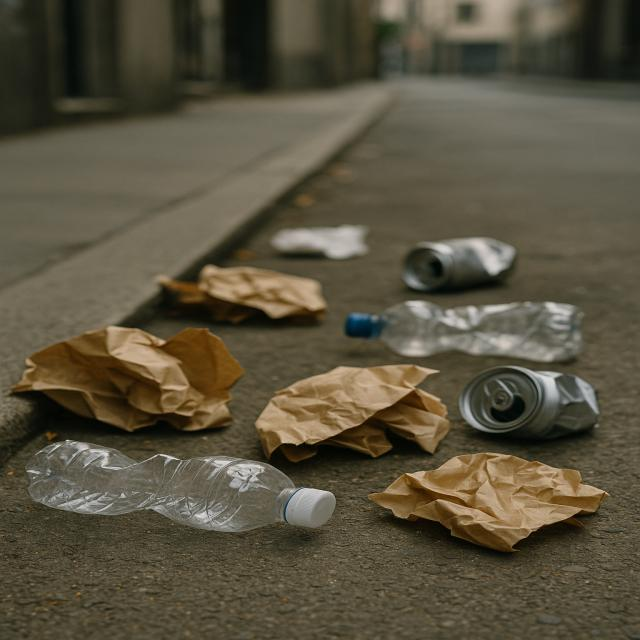aluminum: (460, 363, 600, 437), (405, 232, 521, 288)
paper: (12, 320, 236, 435), (375, 452, 610, 550)
plastic: (25, 437, 337, 537), (326, 296, 586, 364)
